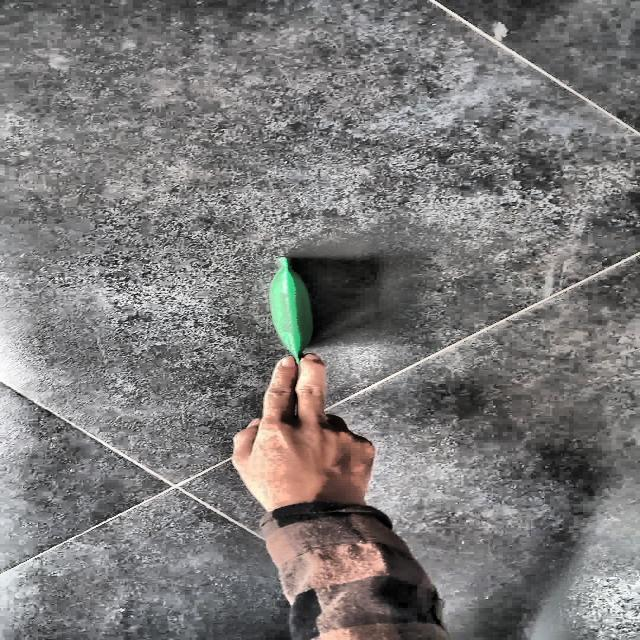payload: (270, 257, 312, 364)
